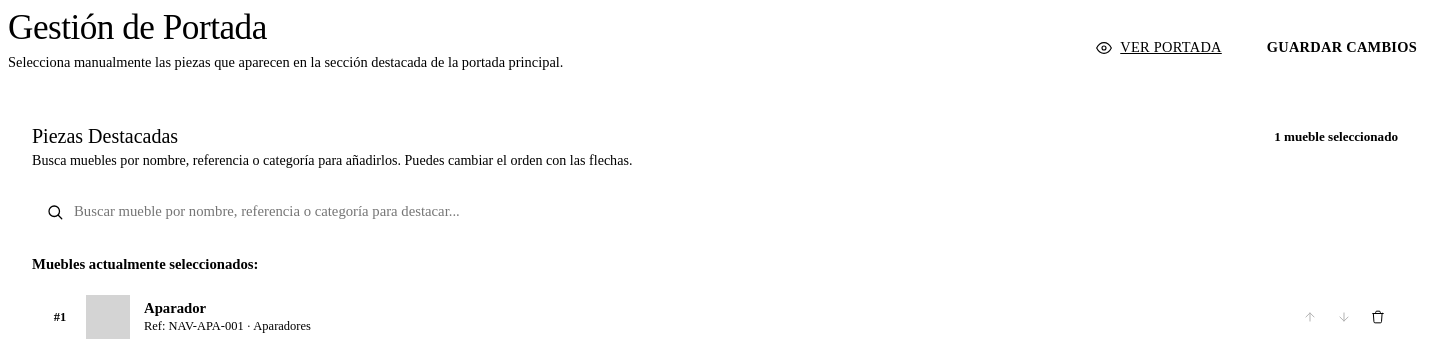
Test: PortadaTab — casos restantes › busca por categoría, no repite las ya destacadas y la cruz limpia la búsqueda
Expected: the heading "Gestión de Portada" is shown, [8,8,267,47]
Replace the text in the field named "Buscar muebles para añadir a destacados" with "mesas" at (720, 212), box [32,191,1408,232]
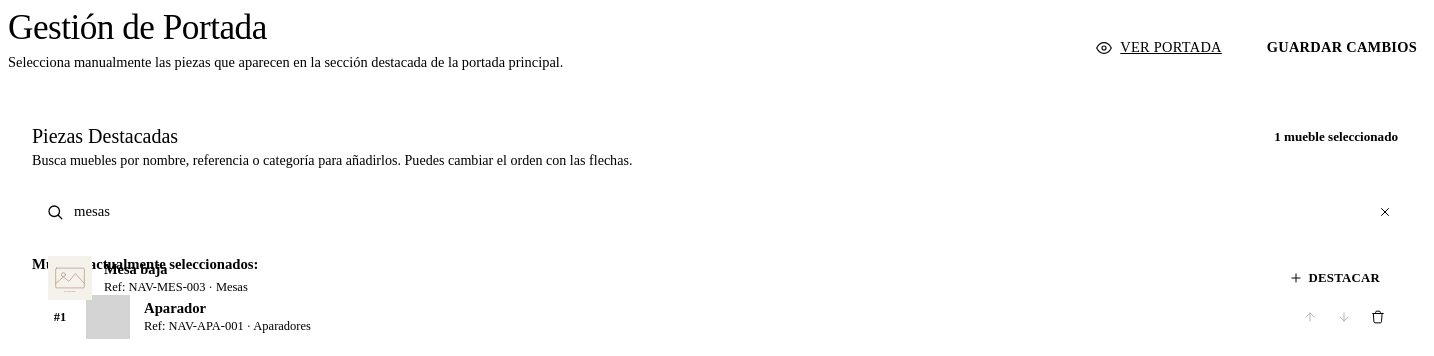
Expected: the text "Mesa baja" is shown, [104,261,168,277]
Expected: the text "Ref: NAV-MES-003 · Mesas" is shown, [104,280,248,294]
Replace the text in the field named "Buscar muebles para añadir a destacados" with "aparador" at (720, 212), box [32,191,1408,232]
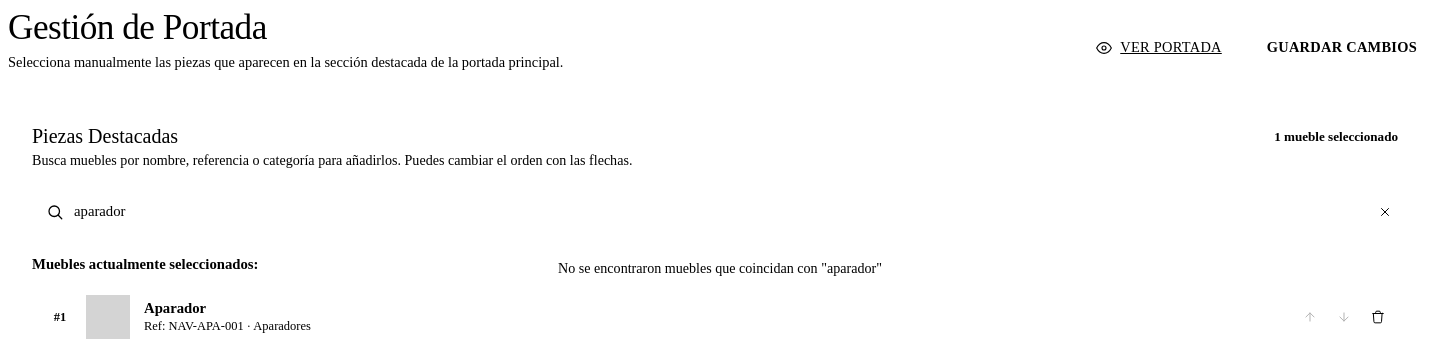
Expected: the text "No se encontraron muebles que coincidan con \"aparador\"" is shown, [558,260,882,276]
Replace the text in the field named "Buscar muebles para añadir a destacados" with "tabur" at (720, 212), box [32,191,1408,232]
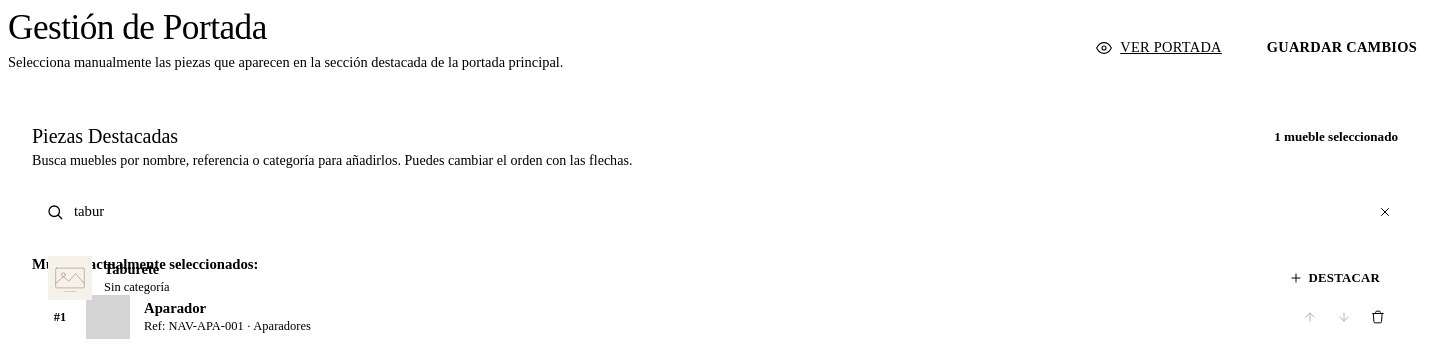
Expected: the text "Sin categoría" is shown, [104,280,169,294]
Click the button named "Limpiar búsqueda".
click(1385, 212)  # box [1374,200,1396,222]
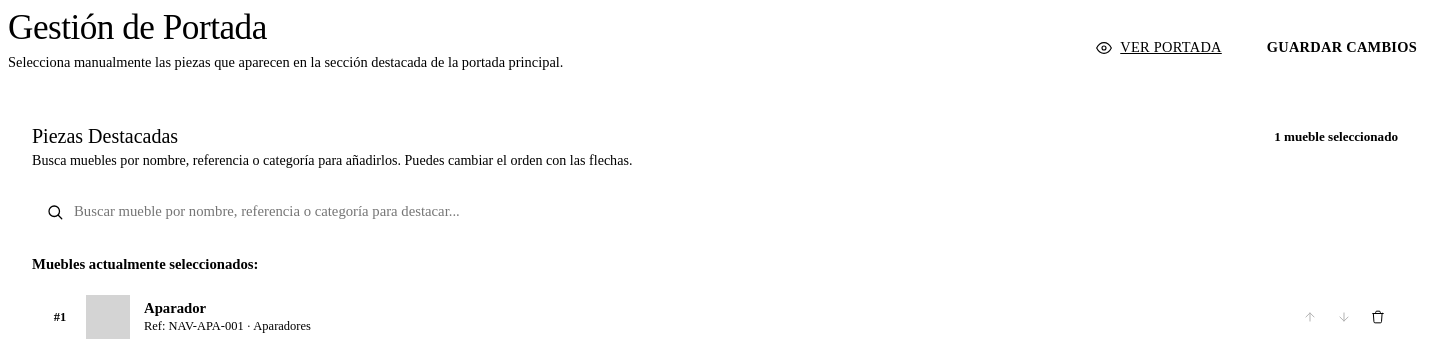
Expected: the field named "Buscar muebles para añadir a destacados" is empty, [32,191,1408,232]
